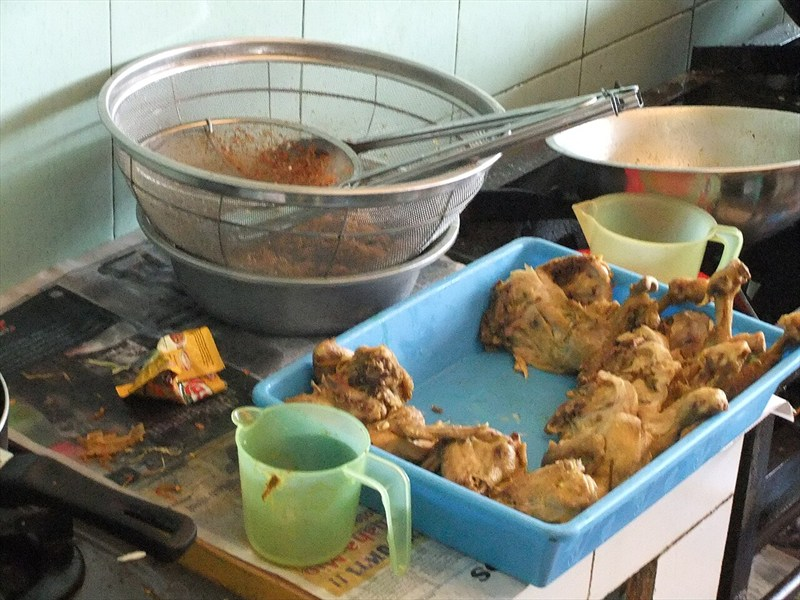Ayam Goreng: (132, 64, 783, 541)
